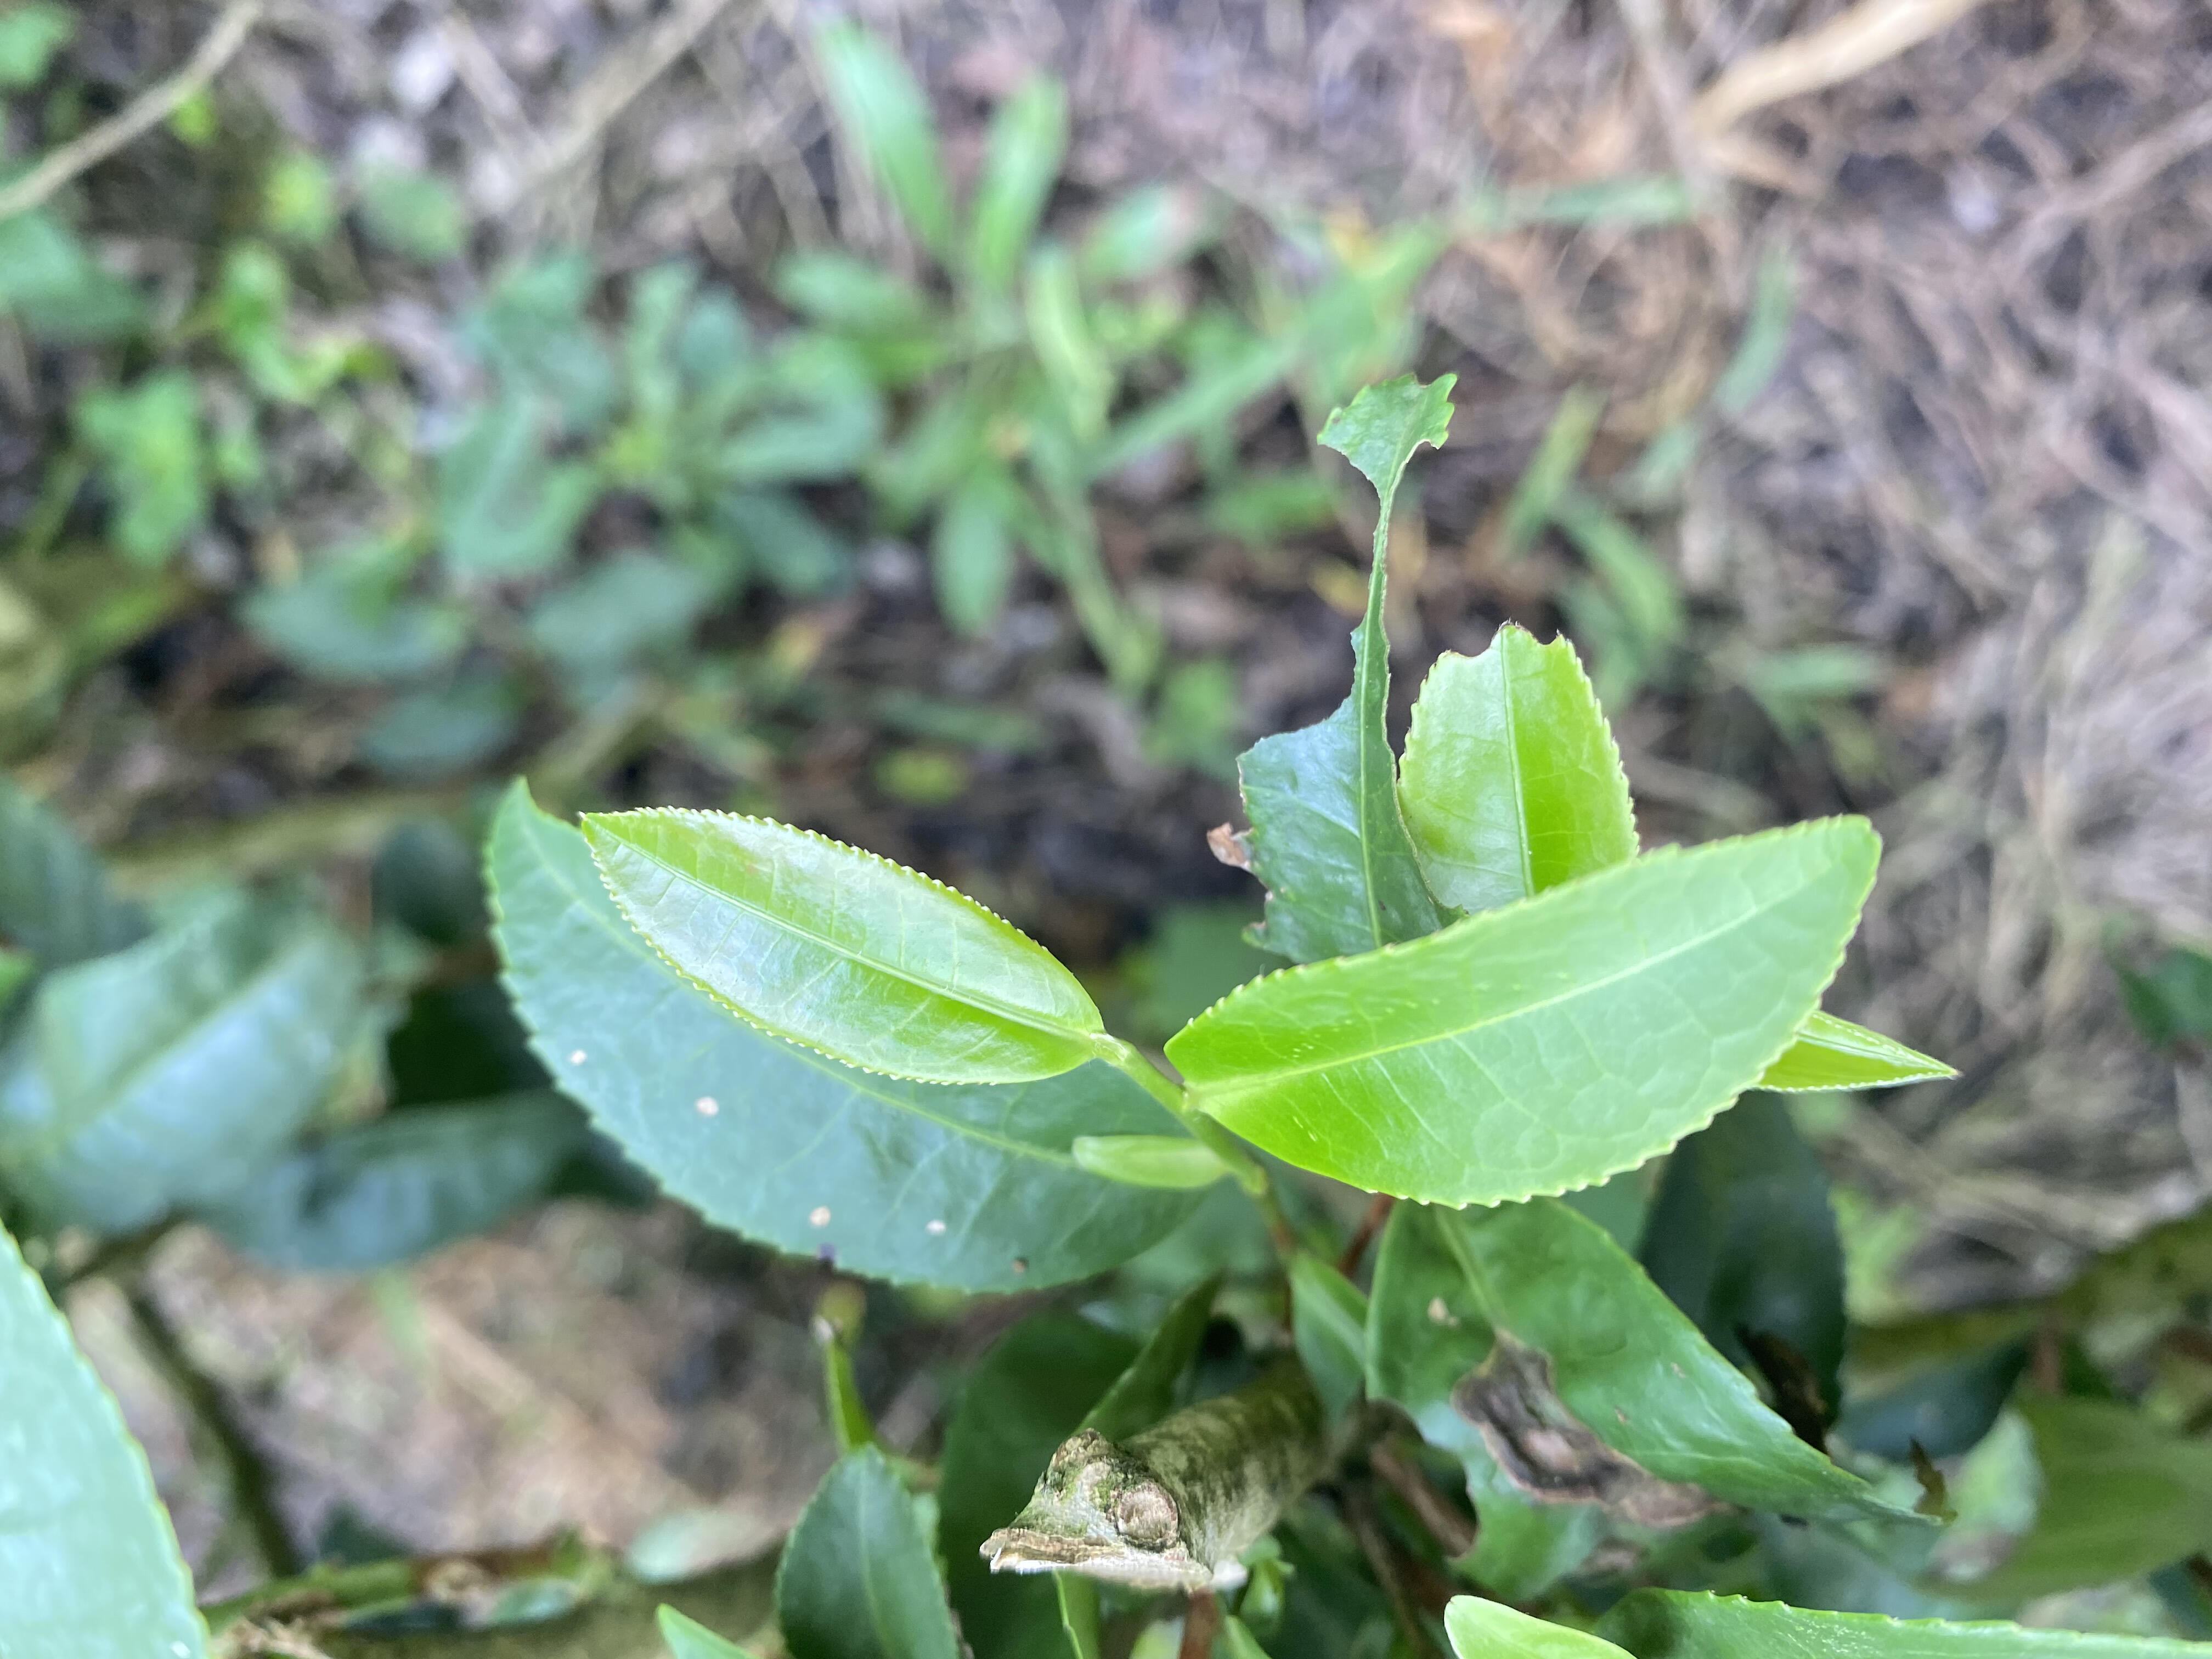chihuo_high: (1237, 369, 1463, 962), (1397, 615, 1644, 913)
healthy: (1160, 816, 1888, 1209), (575, 805, 1103, 1086)
tanju_high: (1362, 1195, 1944, 1605)
tanju_low: (479, 775, 1230, 1297)
